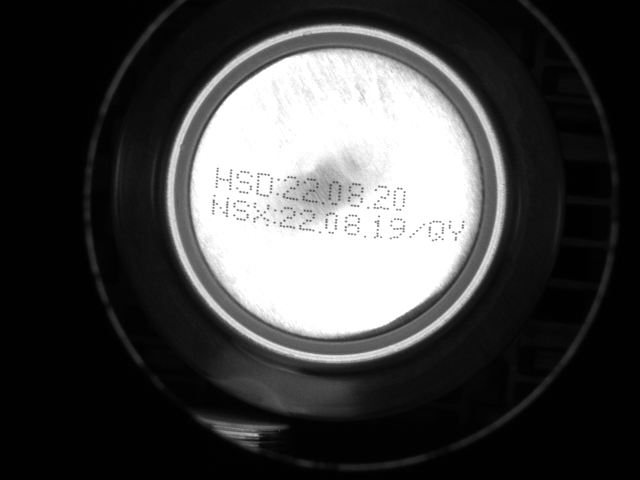/: (407, 218, 428, 241)
0: (325, 176, 350, 207), (319, 209, 344, 235), (393, 184, 412, 212)
1: (370, 213, 387, 240)
2: (367, 180, 392, 210), (278, 171, 303, 200), (302, 173, 325, 202), (274, 204, 300, 229), (297, 205, 314, 231)
8: (345, 212, 369, 237), (347, 179, 366, 206)
9: (388, 213, 412, 241)
D: (256, 173, 278, 199)
H: (210, 165, 233, 189)
N: (207, 193, 232, 219)
Q: (423, 220, 444, 244)
S: (233, 167, 256, 196), (231, 197, 251, 222)
X: (252, 201, 269, 224)
Y: (448, 217, 469, 242)
